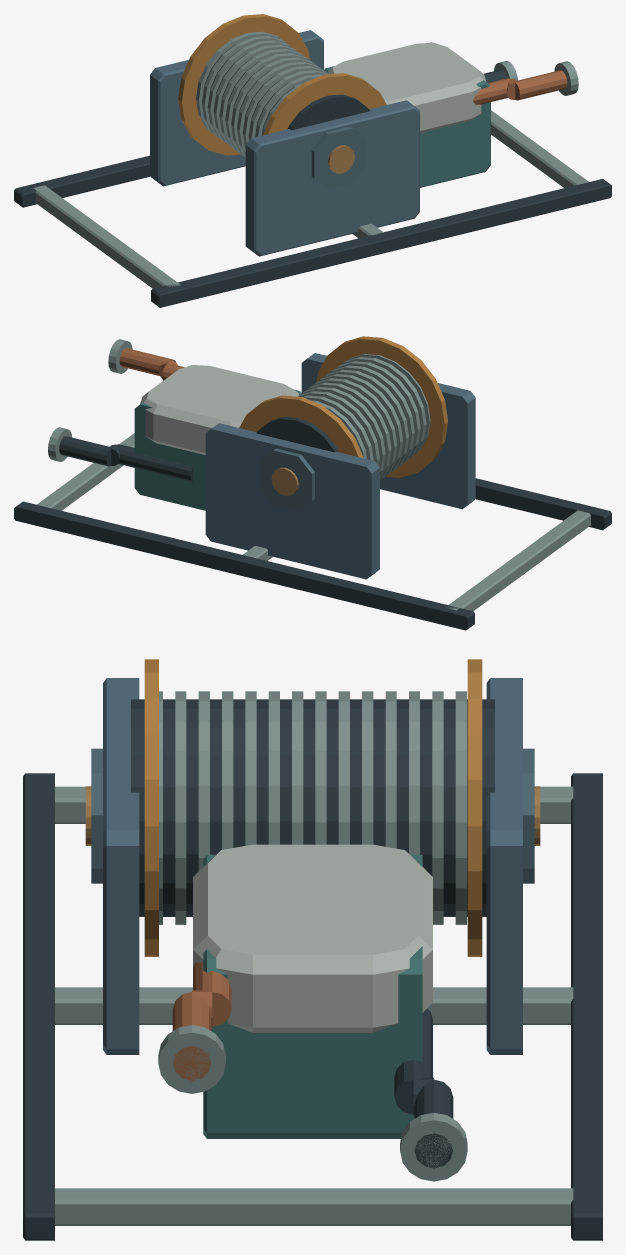
The model's file is UT-07_gate_winch.glb.
3 renders of one model, top to bottom at view 1: azimuth 30°, elevation 25°; view 2: azimuth 150°, elevation 25°; view 3: azimuth 270°, elevation 25°, orthographic. The views are drawn at different scales.
Parts seen in each view (by area): view 1: UT-07_gate_winch; view 2: UT-07_gate_winch; view 3: UT-07_gate_winch.
Part boxes in pixels (box(x1,y1,x2,y2)): UT-07_gate_winch: box(14, 14, 611, 307); UT-07_gate_winch: box(14, 336, 611, 630); UT-07_gate_winch: box(23, 659, 602, 1240).
Size of the model in its own units: 13 by 4.4 by 7.2.
